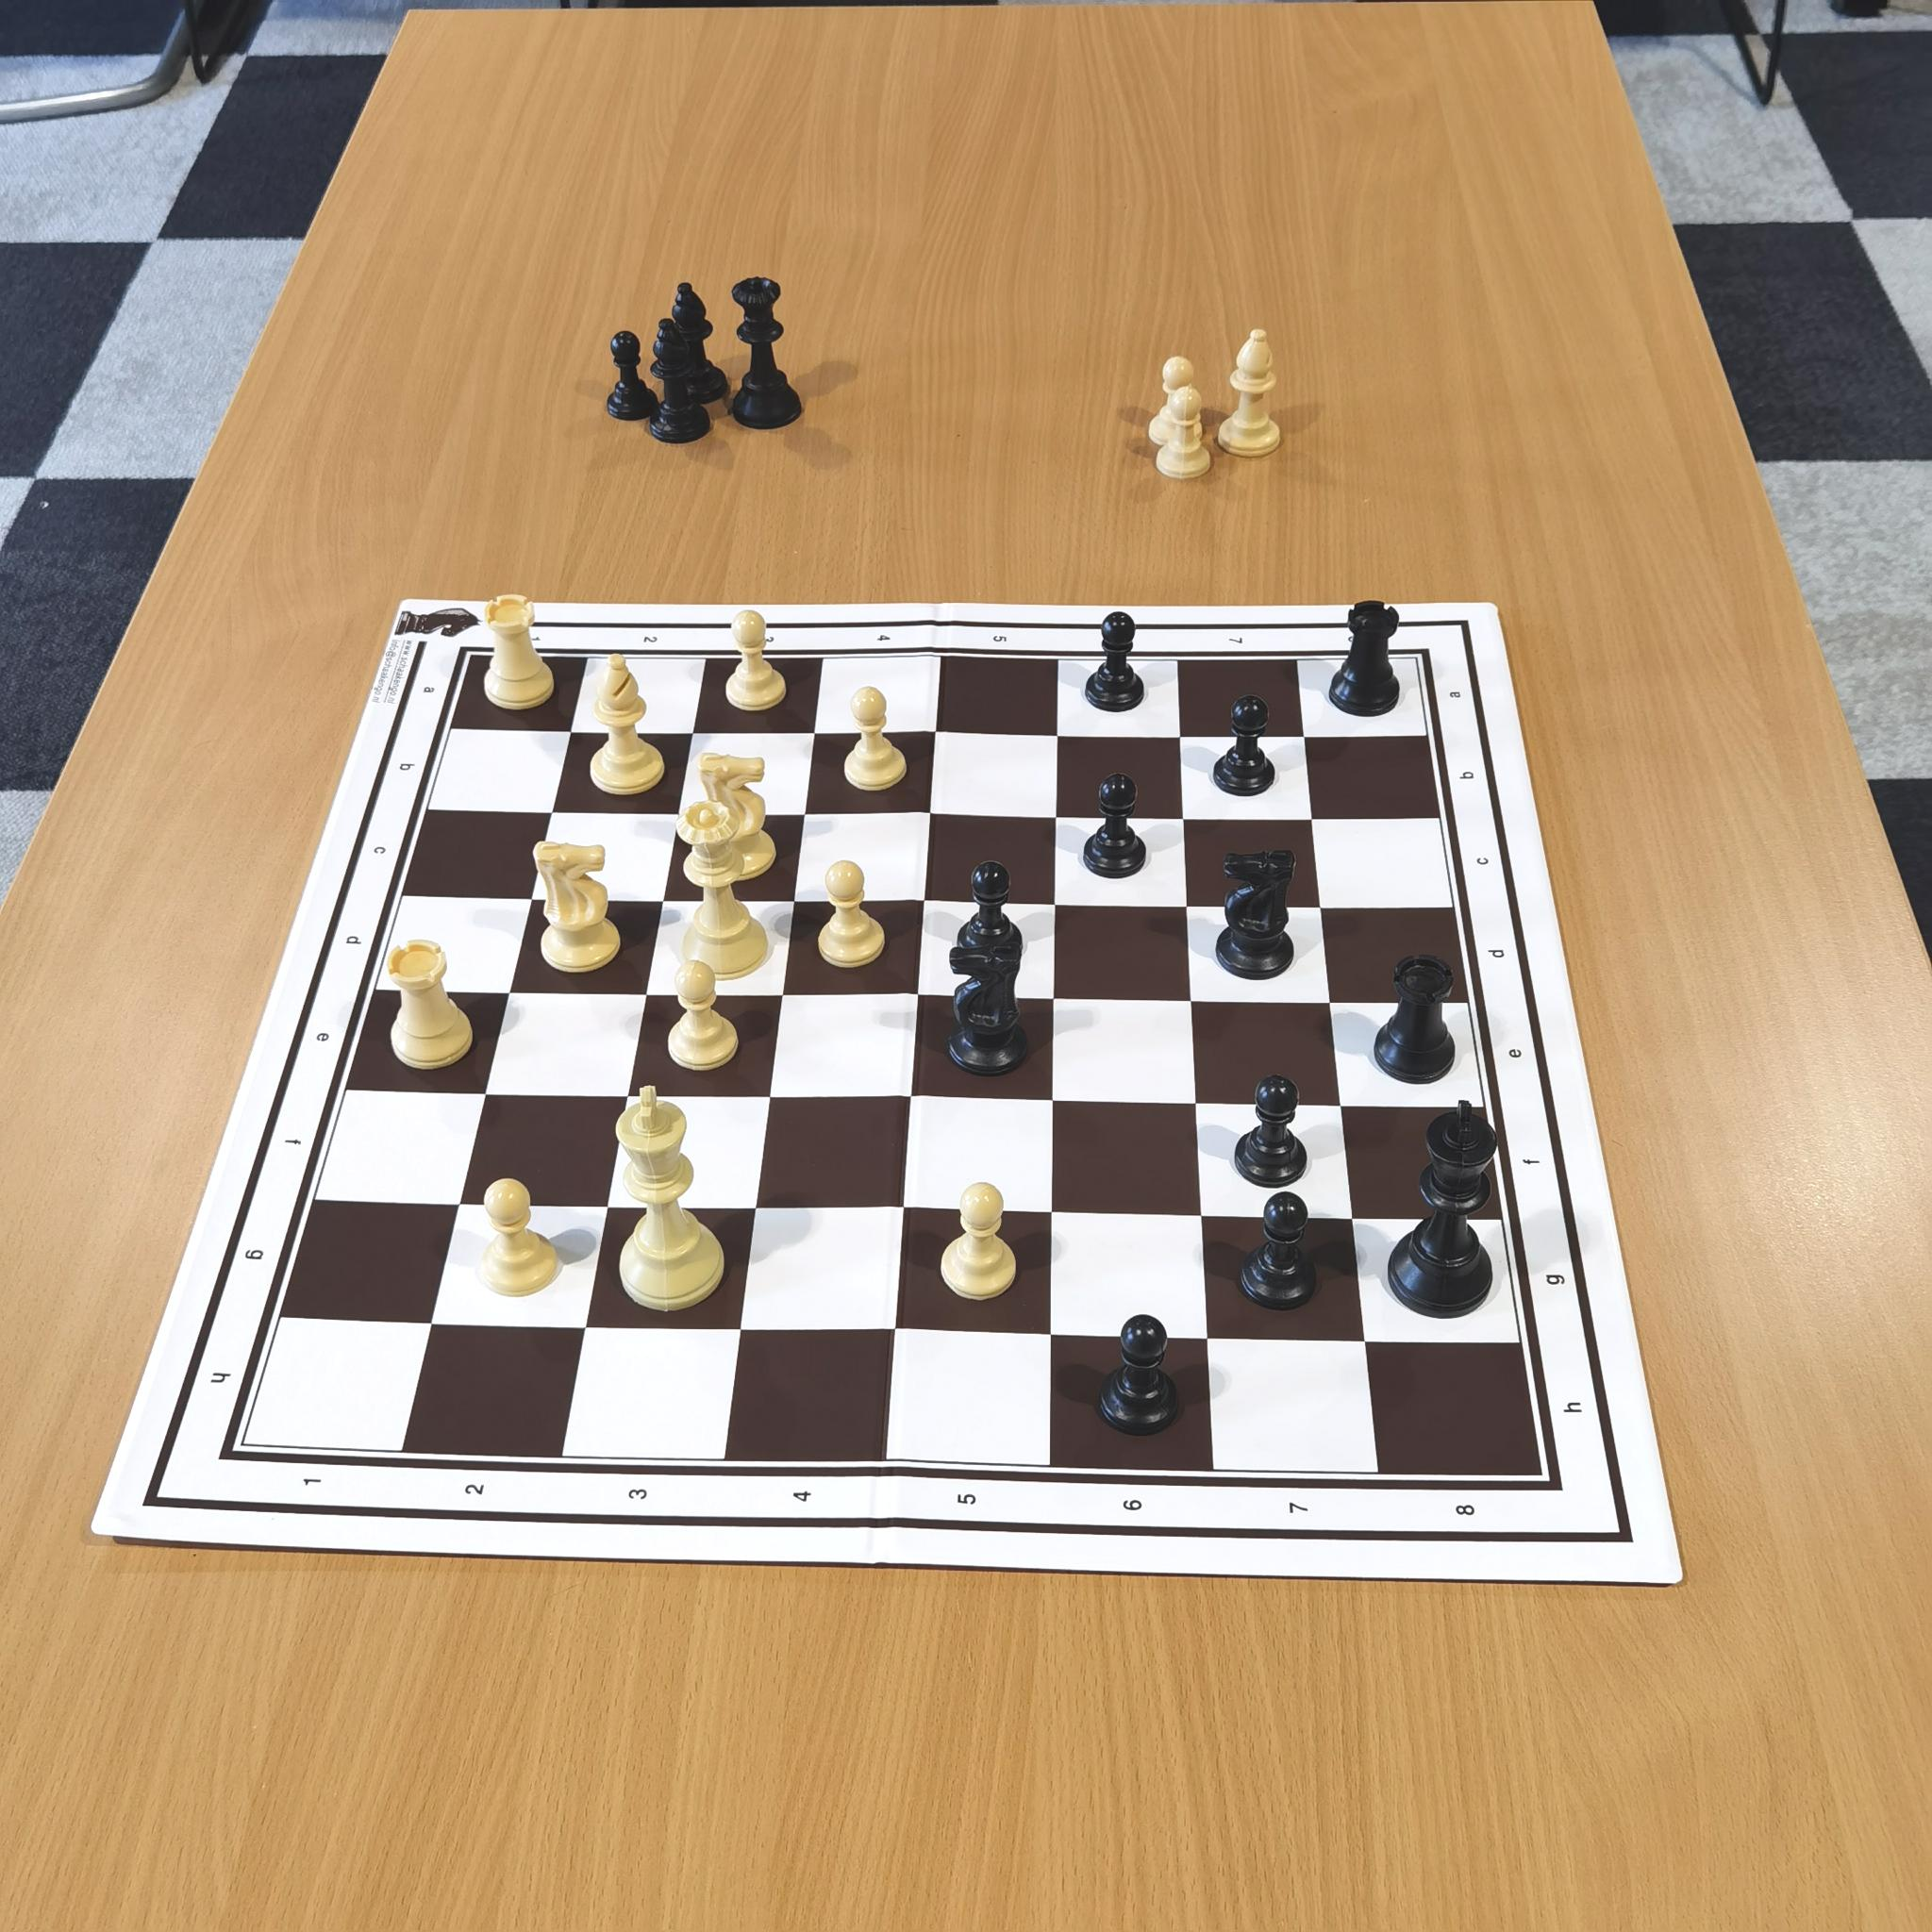corners: (204, 1437, 260, 1486), (1531, 1466, 1580, 1512), (448, 636, 490, 675), (1403, 639, 1444, 676)
eight: (1444, 1480, 1495, 1534), (1344, 625, 1391, 652)
one: (285, 1459, 335, 1508), (521, 623, 549, 651)
